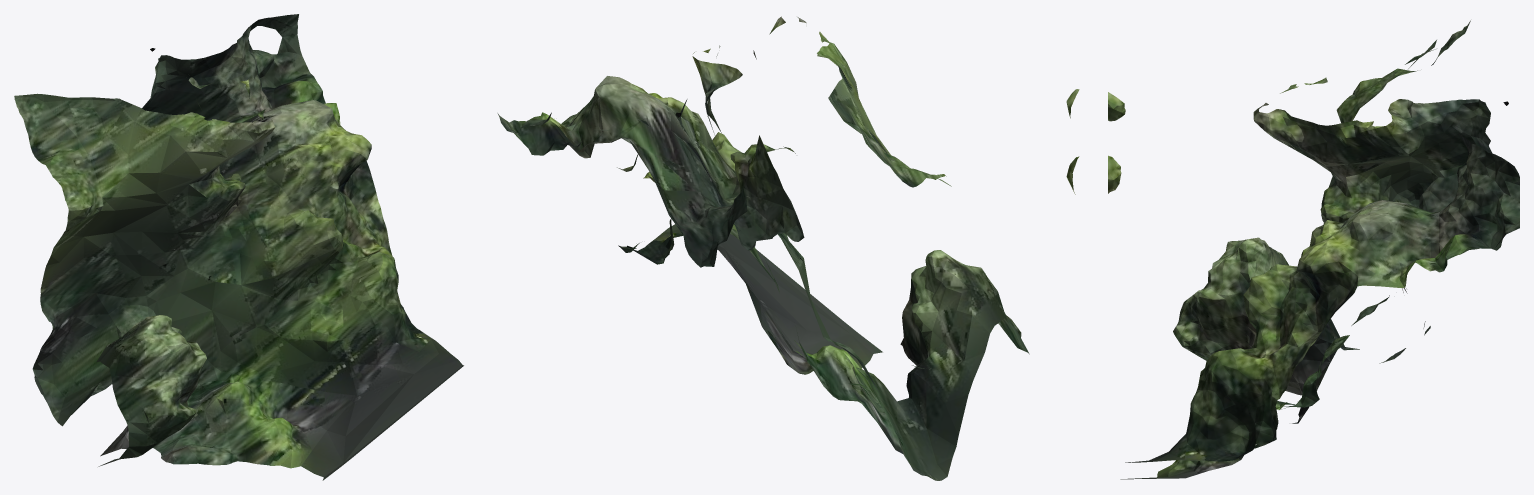
3 views of the same model, side by side, from view 1: azimuth 30°, elevation 25°; view 2: azimuth 150°, elevation 25°; view 3: azimuth 270°, elevation 25° (orthographic). The views are drawn at different scales.
Size of the model in its own units: 26.11 by 26.11 by 26.11.
Materials: 5 (5 with a texture image).
